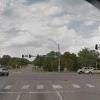Crosswalk: (4, 78, 93, 94)
